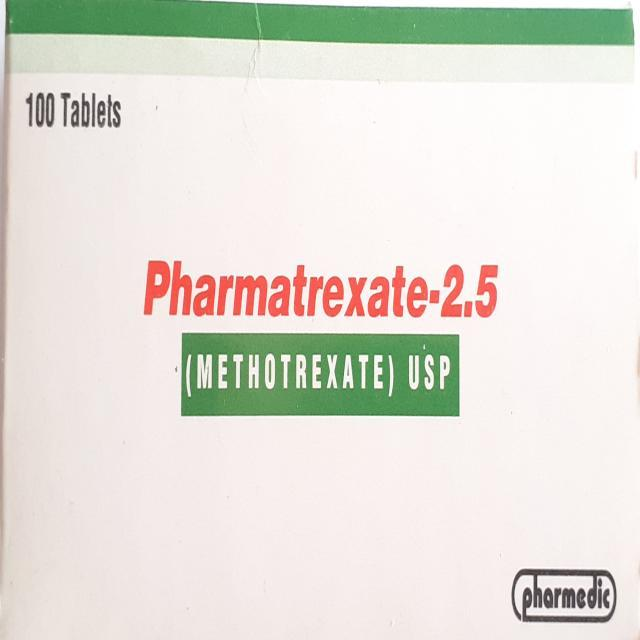drug-name: (140, 256, 510, 322)
